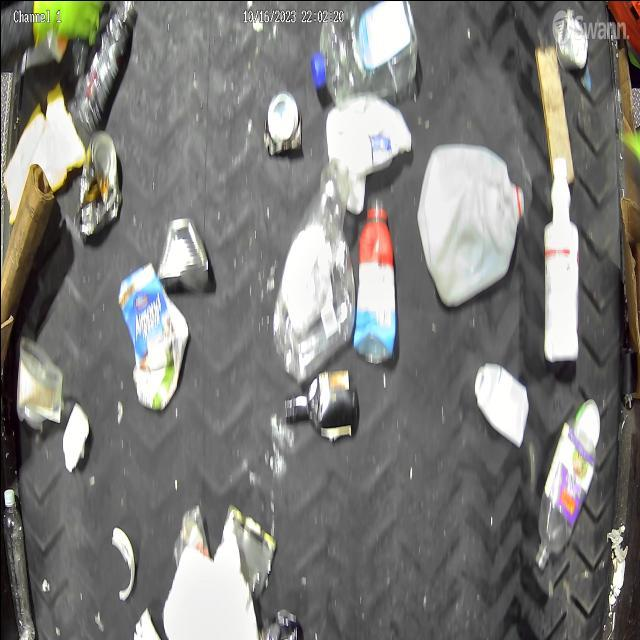can: (218, 501, 278, 598), (72, 126, 121, 244), (154, 214, 212, 296), (262, 90, 302, 156), (553, 15, 590, 70), (276, 604, 298, 640)
milk_jug: (415, 140, 526, 308), (324, 93, 412, 217)
non_white_jug: (272, 158, 354, 384)
plastic_bottle: (310, 0, 418, 104)
